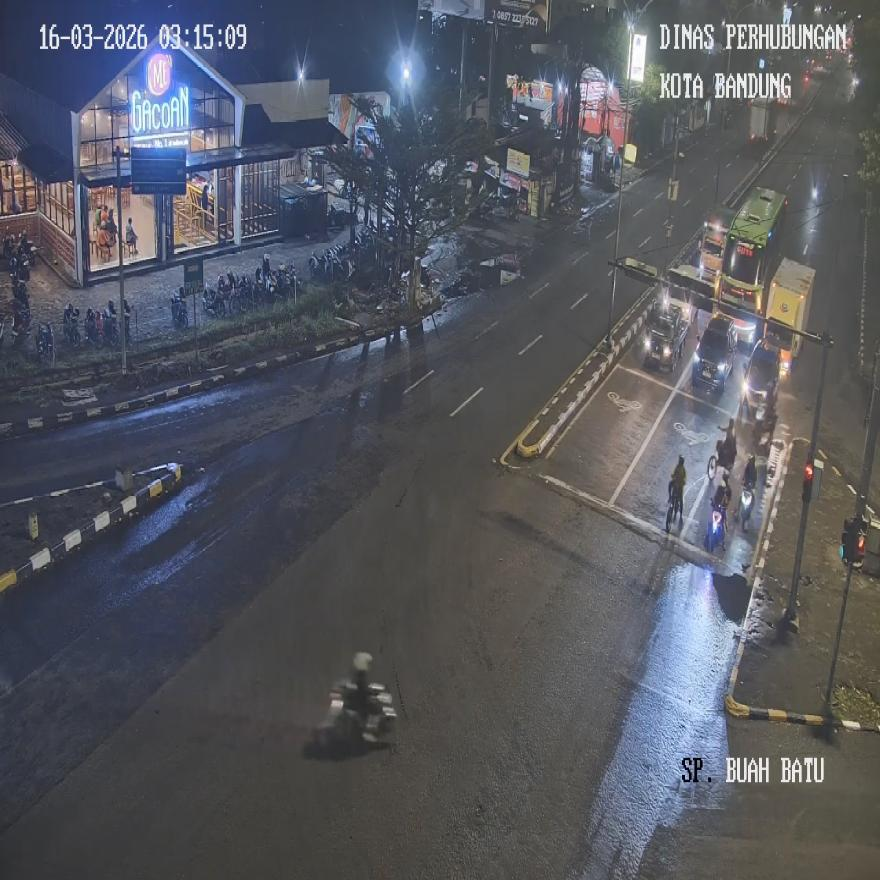Motor: (705, 499, 726, 554), (665, 477, 681, 534), (83, 308, 105, 348), (230, 276, 253, 314), (99, 306, 119, 347), (203, 282, 225, 319), (36, 321, 54, 366), (739, 481, 754, 532), (170, 290, 188, 328), (62, 314, 82, 348), (125, 218, 138, 256)
